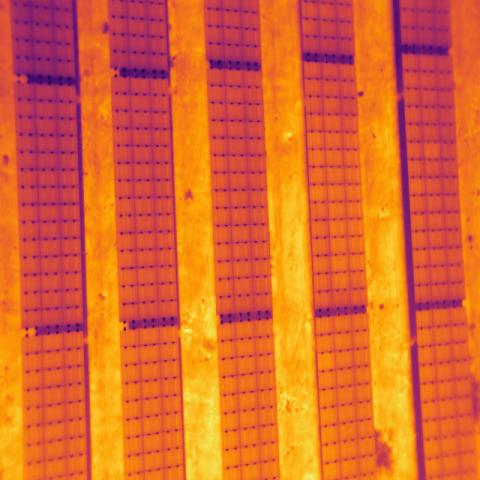fault: (317, 351, 336, 372)
